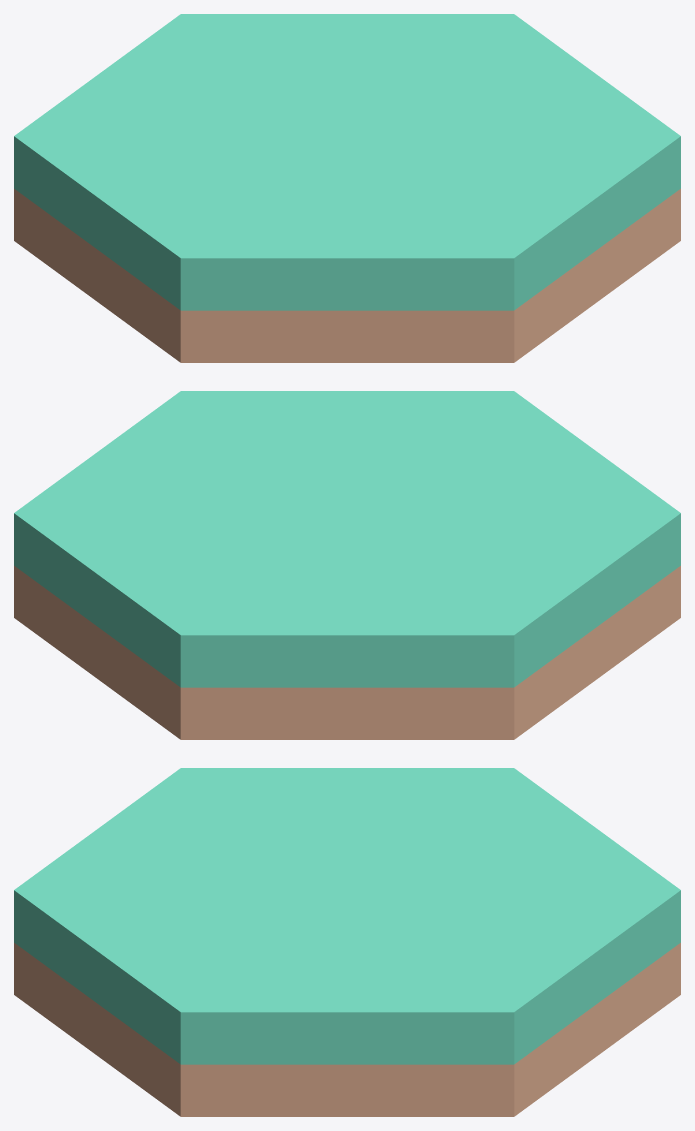
Rendered from GrassCell.fbx.
The picture shows the model from 3 angles, top to bottom: view 1: azimuth 30°, elevation 25°; view 2: azimuth 150°, elevation 25°; view 3: azimuth 270°, elevation 25°; orthographic projection.
Parts seen in each view (by area): view 1: grass; view 2: grass; view 3: grass.
Part boxes in pixels (x1,y1,x2,y2): grass: [14, 14, 680, 362]; grass: [14, 391, 680, 739]; grass: [14, 768, 680, 1116].
Size of the model in its own units: 100 by 20 by 115.
